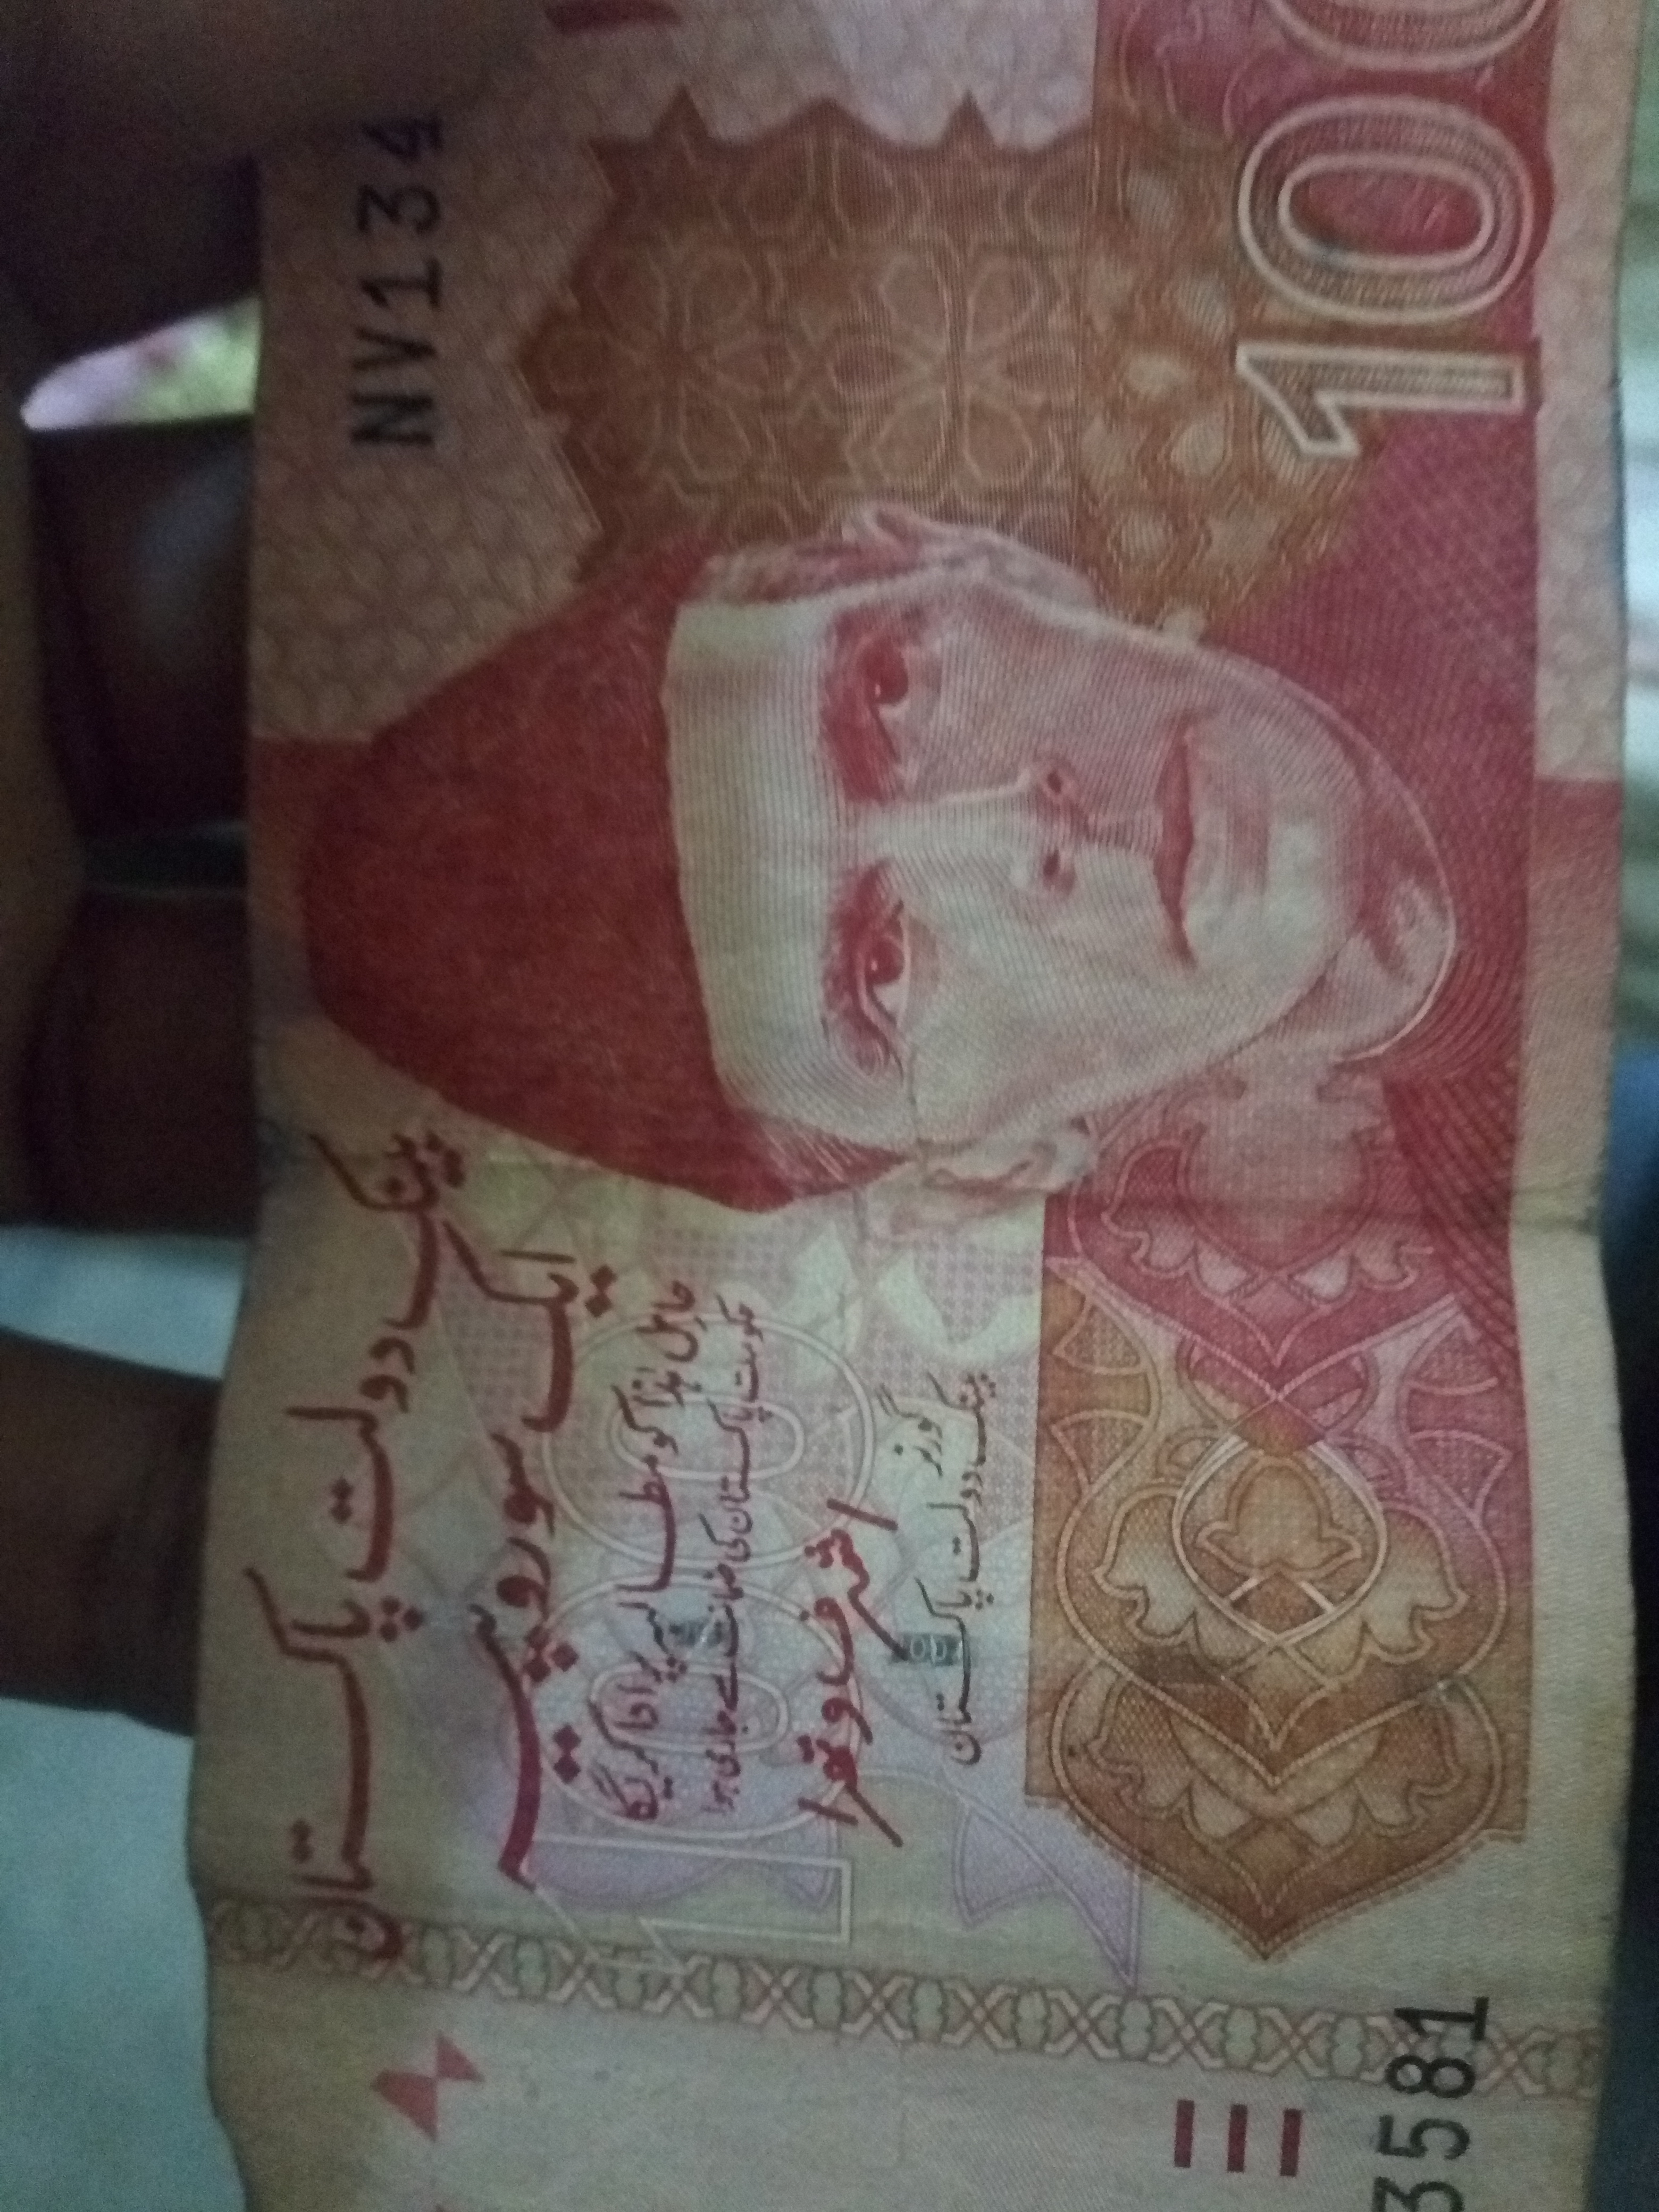100 rupee: (143, 33, 1638, 2212)
